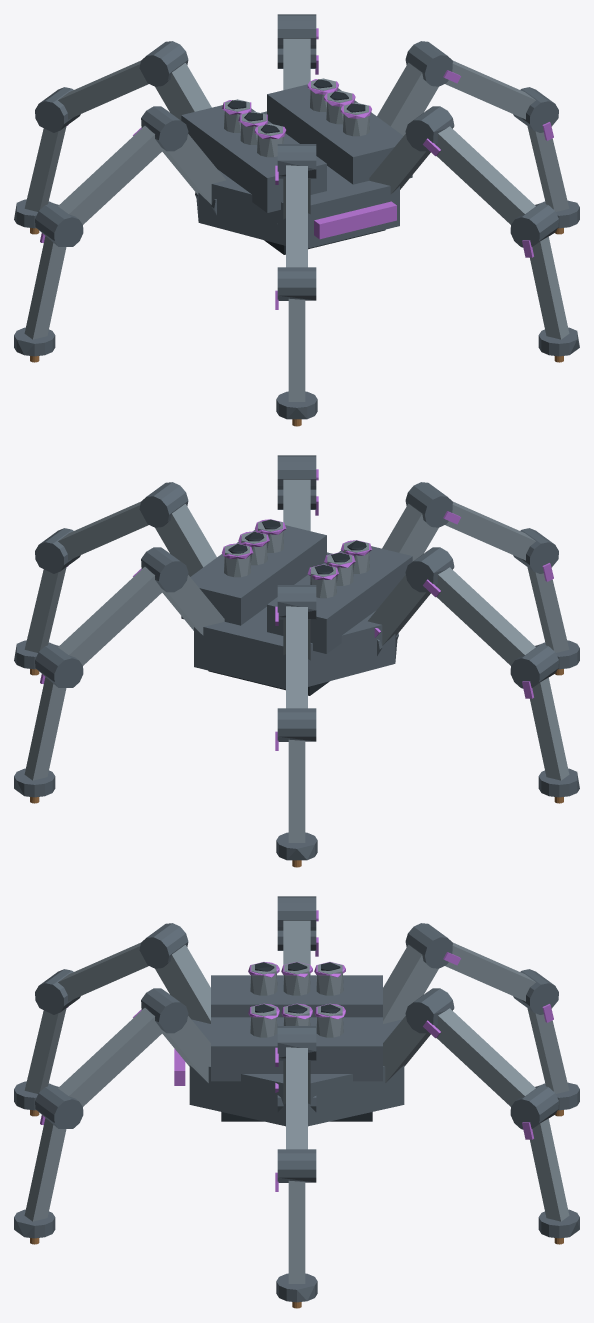
The model's file is heptapod_a6_t1_d0.glb.
The picture shows the model from 3 angles, top to bottom: view 1: azimuth 30°, elevation 25°; view 2: azimuth 150°, elevation 25°; view 3: azimuth 270°, elevation 25°; orthographic projection.
Parts seen in each view (by area): view 1: ROOT_ARMOR_GEOMETRY; view 2: ROOT_ARMOR_GEOMETRY; view 3: ROOT_ARMOR_GEOMETRY.
Part boxes in pixels (x1=…): ROOT_ARMOR_GEOMETRY: x1=14, y1=14, x2=579, y2=426; ROOT_ARMOR_GEOMETRY: x1=14, y1=455, x2=579, y2=867; ROOT_ARMOR_GEOMETRY: x1=14, y1=896, x2=579, y2=1308.
Size of the model in its own units: 4.7 by 1.73 by 4.11.
